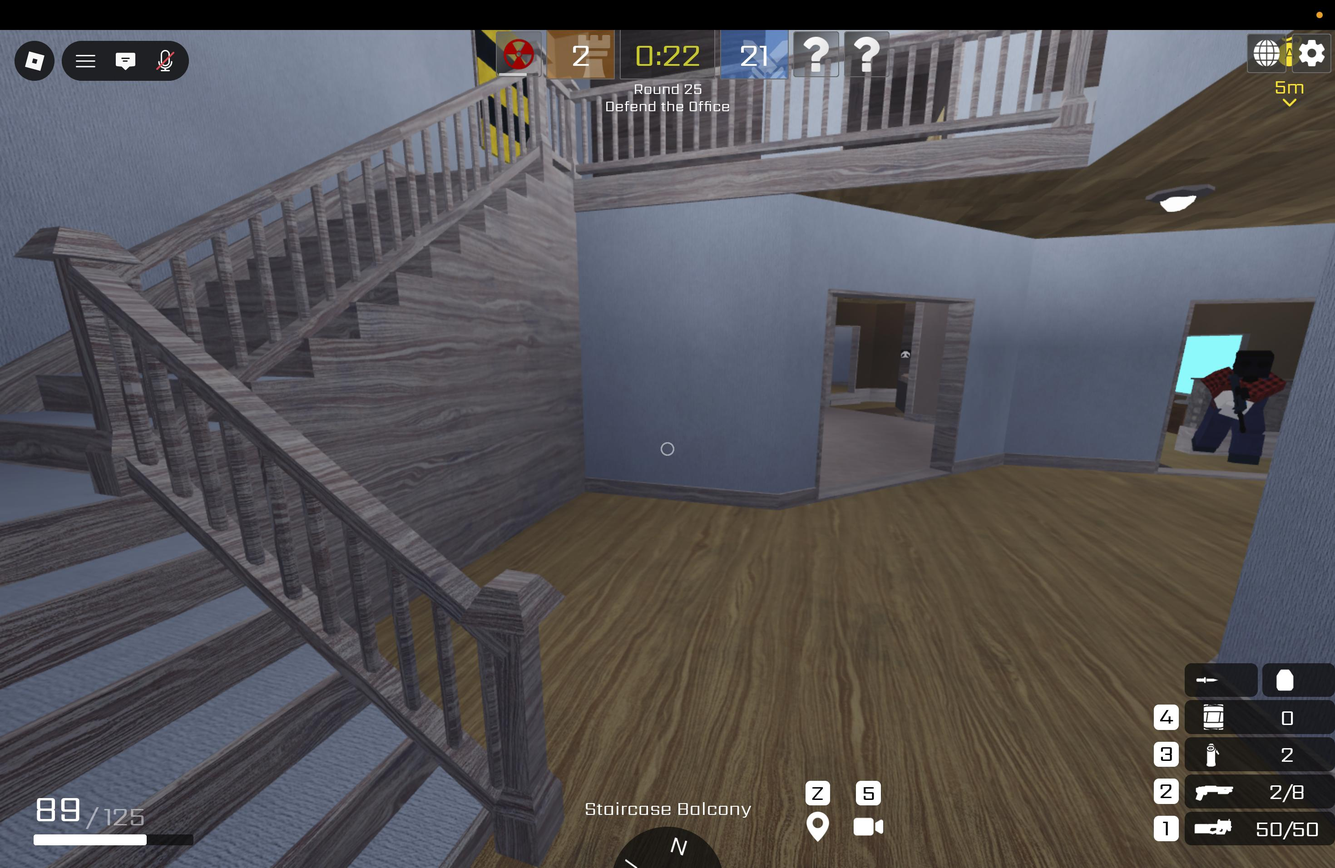enemy: (1182, 340, 1294, 474)
